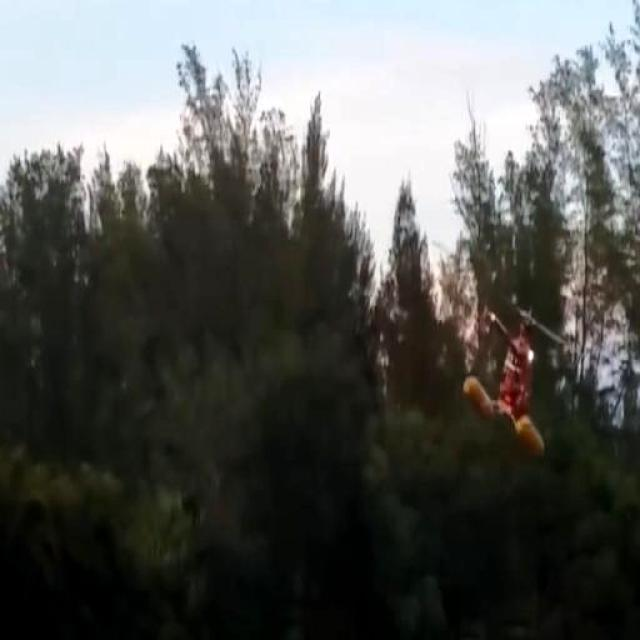drone: (448, 270, 581, 464)
